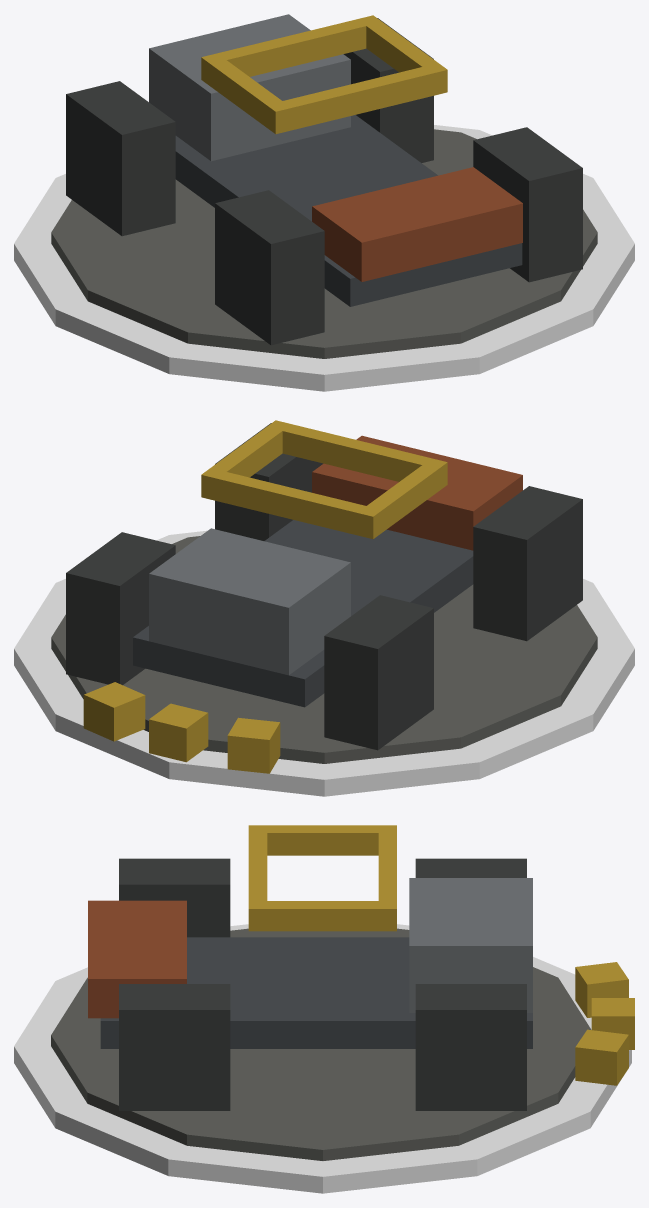
File: vehicle_token_t3.glb
3 views of the same model, one above another, from view 1: azimuth 30°, elevation 25°; view 2: azimuth 150°, elevation 25°; view 3: azimuth 270°, elevation 25° (orthographic).
Visible parts, largest first — view 1: vehicle_token_t3; view 2: vehicle_token_t3; view 3: vehicle_token_t3.
Part boxes in pixels (box(x1,y1,x2,y2)): vehicle_token_t3: box(14, 14, 634, 391); vehicle_token_t3: box(14, 420, 634, 796); vehicle_token_t3: box(14, 825, 634, 1193).
Size of the model in its own units: 1 by 0.35 by 1.
